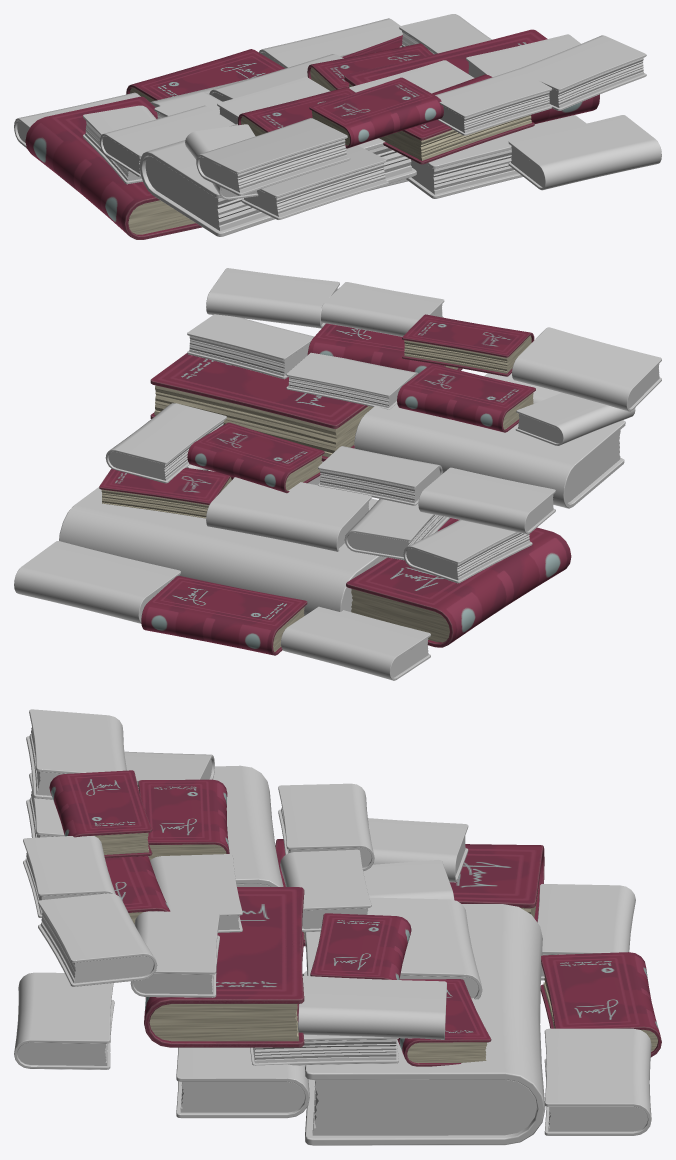
The model's file is BookStaircase_01.fbx.
3 views of the same model, one above another, from view 1: azimuth 30°, elevation 25°; view 2: azimuth 150°, elevation 25°; view 3: azimuth 270°, elevation 25° (orthographic). The views are drawn at different scales.
Parts seen in each view (by area): view 1: GiantBook_Red_01__2_, GiantBook_Blue_01_35, GiantBook_Yellow_01, GiantBook_Blue_01_31, GiantBook_Red_01__8_, GiantBook_Yellow_01__11_, GiantBook_Blue_01_52, GiantBook_Blue_01_43, GiantBook_Blue_01__1_, GiantBook_Yellow_01__7_, GiantBook_Red_01__18_, GiantBook_Red_01__1_ (+15 smaller); view 2: GiantBook_Blue_01_13, GiantBook_Blue_01_31, GiantBook_Red_01__2_, GiantBook_Red_01__15_, GiantBook_Red_01__1_, GiantBook_Yellow_01__1_, GiantBook_Yellow_01__3_, GiantBook_Yellow_01, GiantBook_Blue_01, GiantBook_Yellow_01__7_, GiantBook_Red_01__17_, GiantBook_Red_01__16_ (+12 smaller); view 3: GiantBook_Blue_01_13, GiantBook_Red_01__15_, GiantBook_Yellow_01__1_, GiantBook_Blue_01_35, GiantBook_Yellow_01__2_, GiantBook_Red_01__1_, GiantBook_Blue_01_43, GiantBook_Yellow_01__11_, GiantBook_Red_01__8_, GiantBook_Blue_01, GiantBook_Blue_01_34, GiantBook_Yellow_01__3_ (+16 smaller).
Part boxes in pixels (<box>): GiantBook_Red_01__2_: <box>25,96,202,239</box>; GiantBook_Blue_01_35: <box>508,115,661,190</box>; GiantBook_Yellow_01: <box>196,118,350,195</box>; GiantBook_Blue_01_31: <box>139,124,416,236</box>; GiantBook_Red_01__8_: <box>309,77,443,148</box>; GiantBook_Yellow_01__11_: <box>518,35,646,110</box>; GiantBook_Blue_01_52: <box>241,145,388,219</box>; GiantBook_Blue_01_43: <box>406,115,586,198</box>; GiantBook_Blue_01__1_: <box>435,69,552,135</box>; GiantBook_Yellow_01__7_: <box>99,105,235,177</box>; GiantBook_Red_01__18_: <box>379,74,534,164</box>; GiantBook_Red_01__1_: <box>126,49,284,102</box>; GiantBook_Blue_01_13: <box>59,470,386,615</box>; GiantBook_Blue_01_31: <box>354,403,625,508</box>; GiantBook_Red_01__2_: <box>346,518,571,647</box>; GiantBook_Red_01__15_: <box>150,353,373,461</box>; GiantBook_Red_01__1_: <box>141,576,307,655</box>; GiantBook_Yellow_01__1_: <box>14,541,180,623</box>; GiantBook_Yellow_01__3_: <box>206,477,371,551</box>; GiantBook_Yellow_01: <box>512,327,661,411</box>; GiantBook_Blue_01: <box>280,606,430,680</box>; GiantBook_Yellow_01__7_: <box>418,467,555,534</box>; GiantBook_Red_01__17_: <box>397,364,535,432</box>; GiantBook_Red_01__16_: <box>187,422,324,493</box>; GiantBook_Blue_01_13: <box>302,904,545,1145</box>; GiantBook_Red_01__15_: <box>144,887,304,1047</box>; GiantBook_Yellow_01__1_: <box>544,1028,651,1135</box>; GiantBook_Blue_01_35: <box>14,972,114,1069</box>; GiantBook_Yellow_01__2_: <box>298,976,446,1039</box>; GiantBook_Red_01__1_: <box>540,952,661,1057</box>; GiantBook_Blue_01_43: <box>176,1047,309,1118</box>; GiantBook_Yellow_01__11_: <box>38,893,157,986</box>; GiantBook_Red_01__8_: <box>49,770,152,858</box>; GiantBook_Blue_01: <box>537,884,635,980</box>; GiantBook_Blue_01_34: <box>130,911,219,997</box>; GiantBook_Yellow_01__3_: <box>367,897,482,999</box>.
Bounding box in the file's own units: 684 × 255 × 726.
